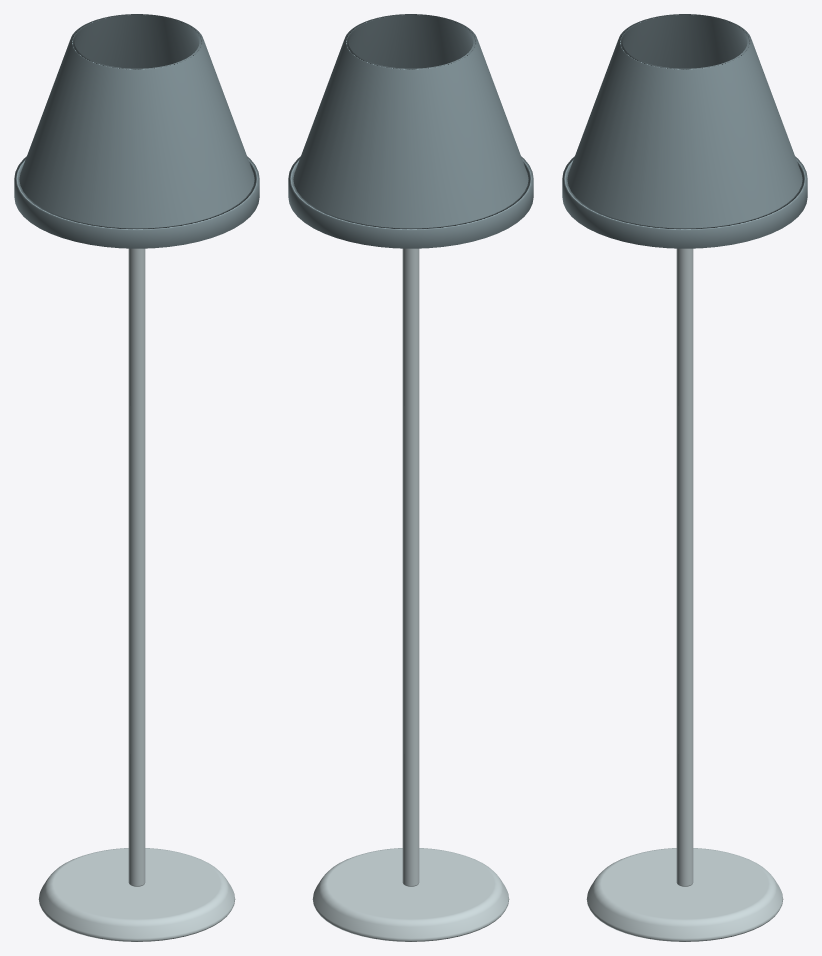
File: lamp.glb
The picture shows the model from 3 angles, left to right: view 1: azimuth 30°, elevation 25°; view 2: azimuth 150°, elevation 25°; view 3: azimuth 270°, elevation 25°; orthographic projection.
Visible parts, largest first — view 1: shade, base, stem, shade_rim; view 2: shade, base, stem, shade_rim; view 3: shade, base, stem, shade_rim.
Boxes of the visible parts, x1,y1,x2,y2 form: shade: (19,14,254,228); base: (38,848,235,941); stem: (128,248,145,886); shade_rim: (14,156,259,248); shade: (293,14,528,228); base: (312,848,509,941); stem: (402,248,419,886); shade_rim: (288,156,533,248); shade: (567,14,802,228); base: (586,848,783,941); stem: (676,248,693,886); shade_rim: (562,156,807,248).
Bounding box in the file's own units: 0.44 × 1.7 × 0.44.
